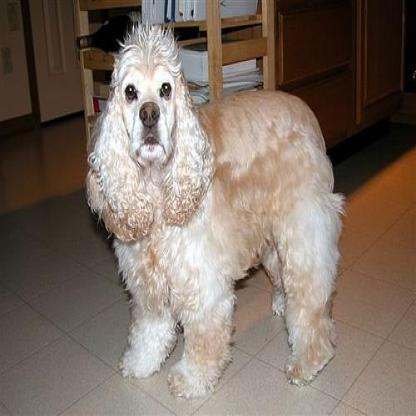cocker_spaniel: (84, 15, 344, 397)
